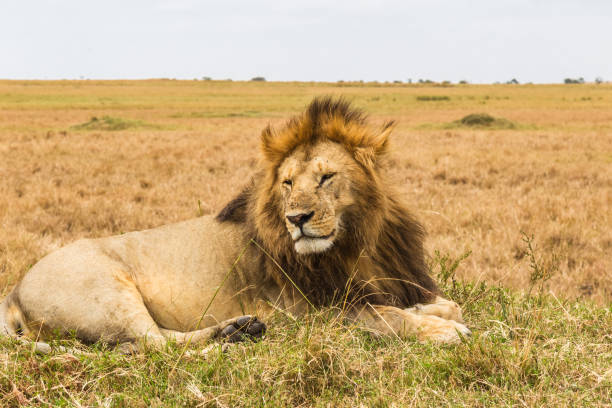lion: (184, 76, 449, 336)
